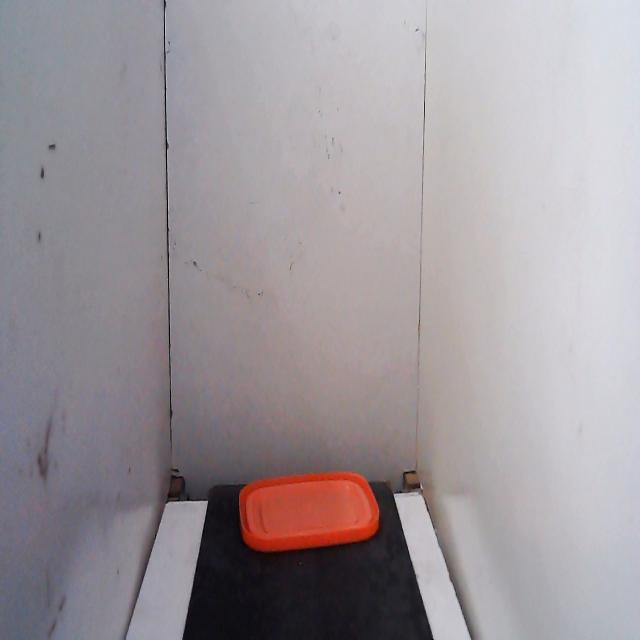plastico: (236, 459, 382, 560)
